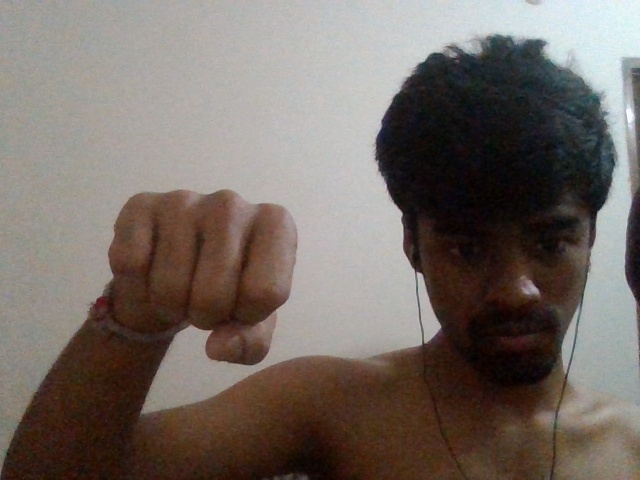Yes: (103, 182, 308, 385)
